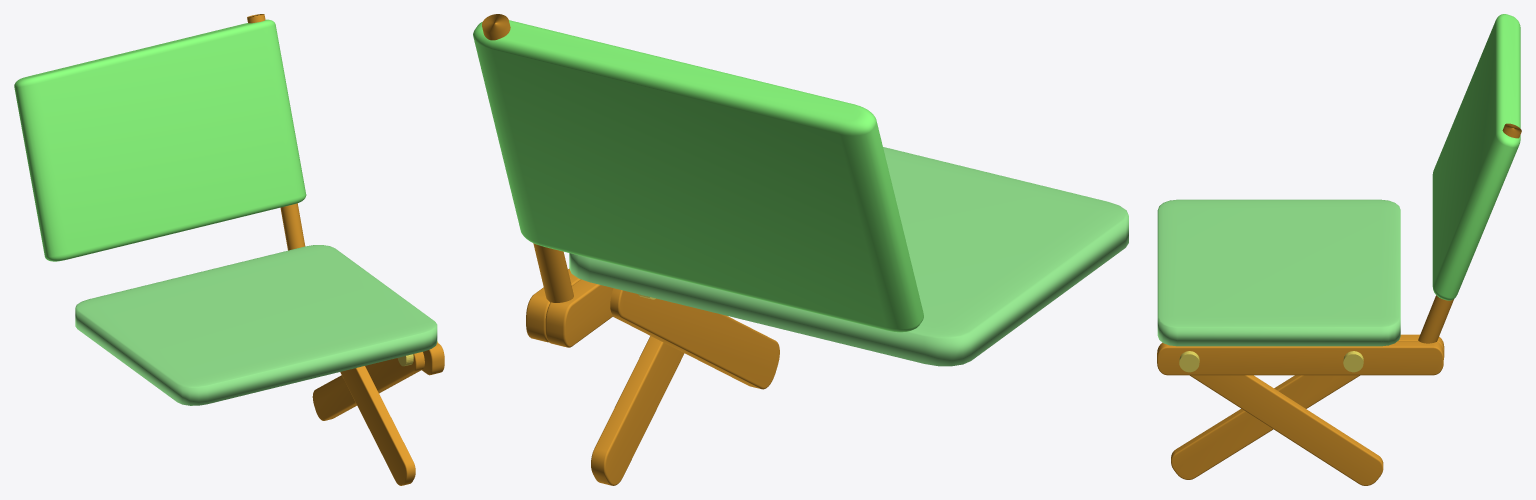
File: stool.gltf
3 renders of one model, left to right at view 1: azimuth 30°, elevation 25°; view 2: azimuth 150°, elevation 25°; view 3: azimuth 270°, elevation 25°, orthographic. The views are drawn at different scales.
Visible parts, largest first — view 1: 立方体.005, 立方体, 立方体.003, 立方体.002, 柱体, 立方体.001; view 2: 立方体.005, 立方体, 立方体.003, 立方体.002, 立方体.004, 柱体, 立方体.001; view 3: 立方体, 立方体.005, 立方体.001, 立方体.002, 立方体.003, 柱体.
Boxes of the visible parts, bbox=[...] form: 立方体.005: bbox=[14, 19, 306, 261]; 立方体: bbox=[75, 245, 437, 405]; 立方体.003: bbox=[340, 366, 415, 485]; 立方体.002: bbox=[312, 352, 424, 420]; 柱体: bbox=[247, 14, 305, 250]; 立方体.001: bbox=[422, 342, 444, 375]; 立方体.005: bbox=[473, 20, 923, 332]; 立方体: bbox=[569, 147, 1128, 366]; 立方体.003: bbox=[610, 288, 779, 389]; 立方体.002: bbox=[591, 336, 684, 485]; 立方体.004: bbox=[545, 279, 613, 347]; 柱体: bbox=[482, 14, 573, 302]; 立方体.001: bbox=[526, 268, 580, 342]; 立方体: bbox=[1157, 199, 1400, 346]; 立方体.005: bbox=[1432, 14, 1520, 300]; 立方体.001: bbox=[1157, 341, 1443, 375]; 立方体.002: bbox=[1190, 375, 1383, 485]; 立方体.003: bbox=[1171, 375, 1359, 479]; 柱体: bbox=[1418, 123, 1521, 343].
Size of the model in its own units: 2.05 by 2.61 by 2.4.
